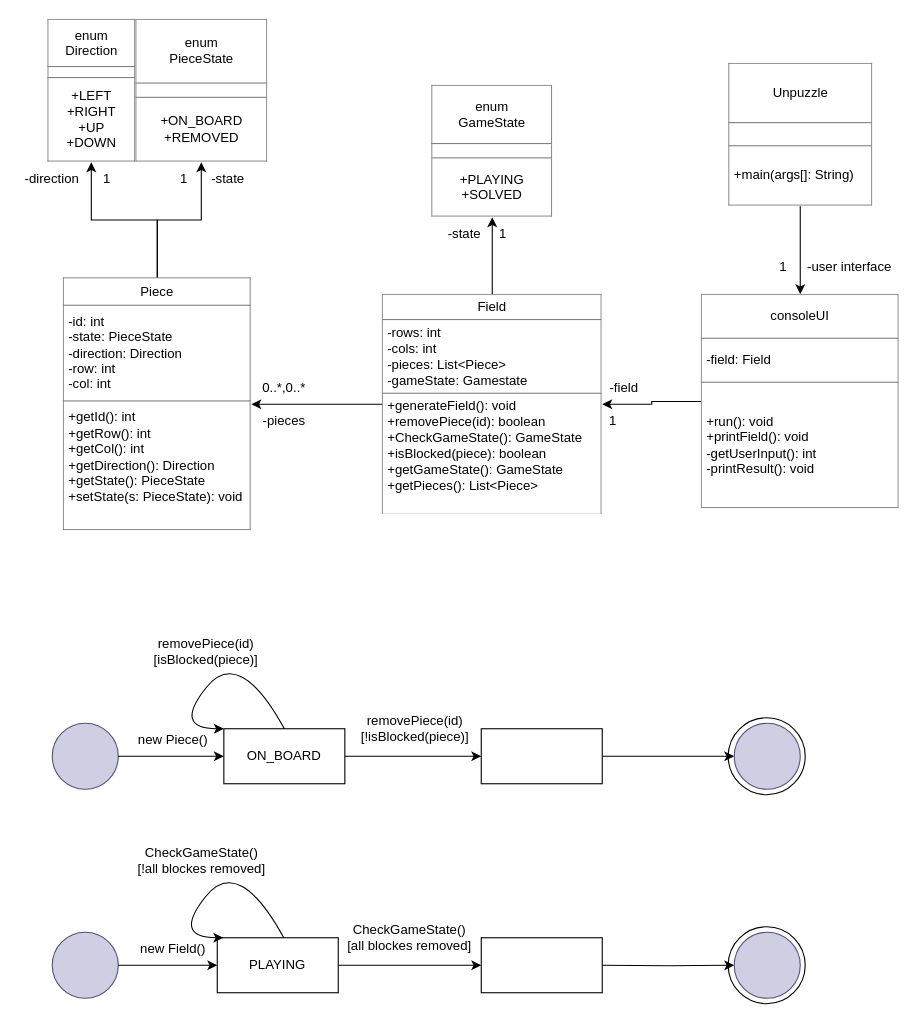
This 917x1023 diagram has some shape labels left out. Each missing label, with the box of its shape:
REMOVED: (480, 728, 602, 784)
SOLVED: (480, 937, 602, 993)
